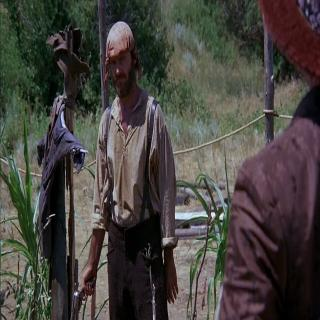gun: (70, 278, 98, 319)
